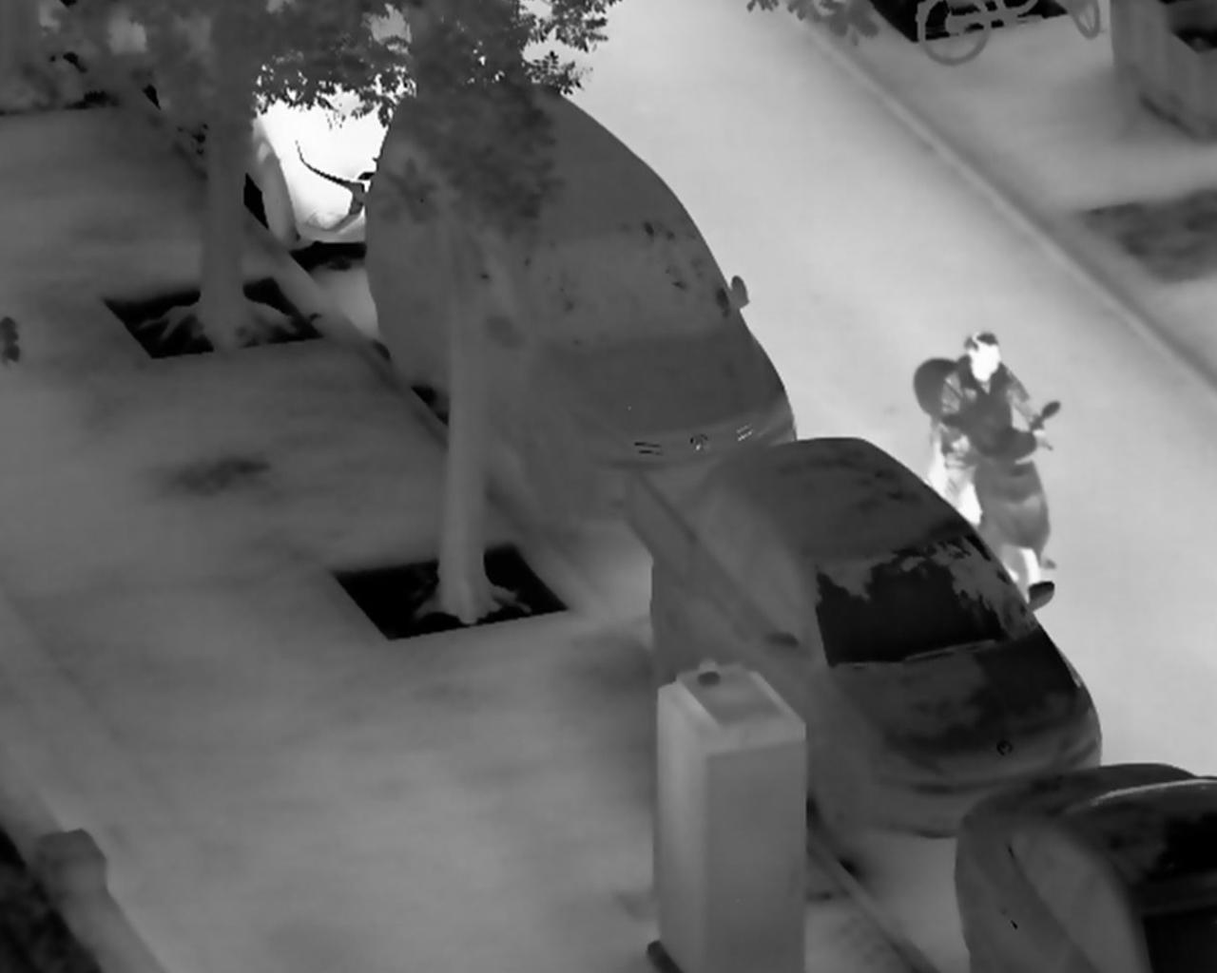person: (940, 327, 1053, 533)
